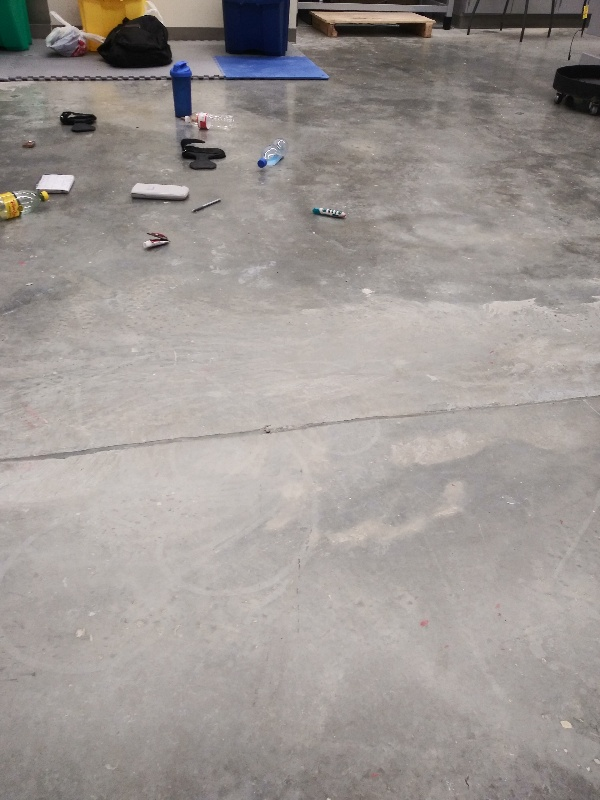bottle: (1, 186, 52, 224), (253, 134, 294, 173), (182, 111, 239, 133)
